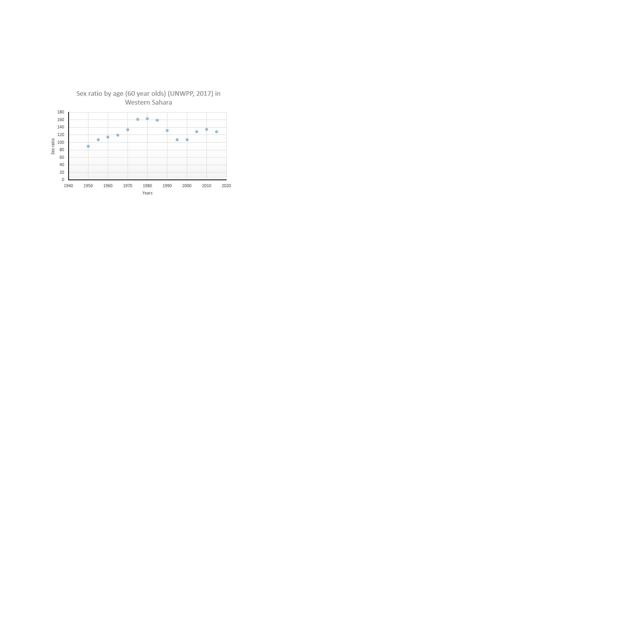Graph: (46, 85, 234, 201)
